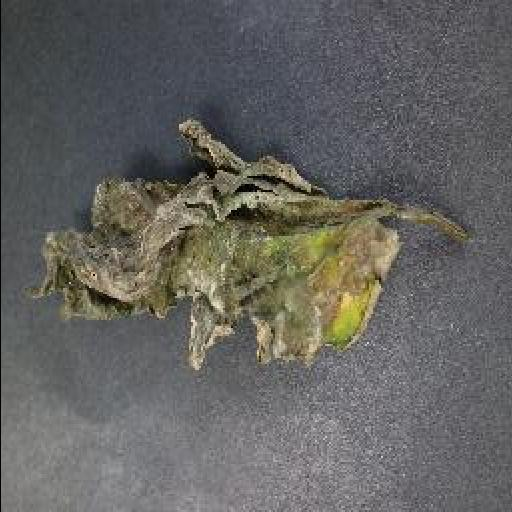disease_tomato: (26, 116, 400, 370)
